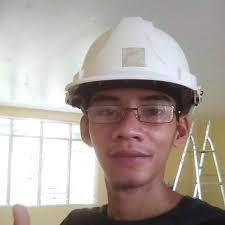helmet: (64, 16, 198, 95)
